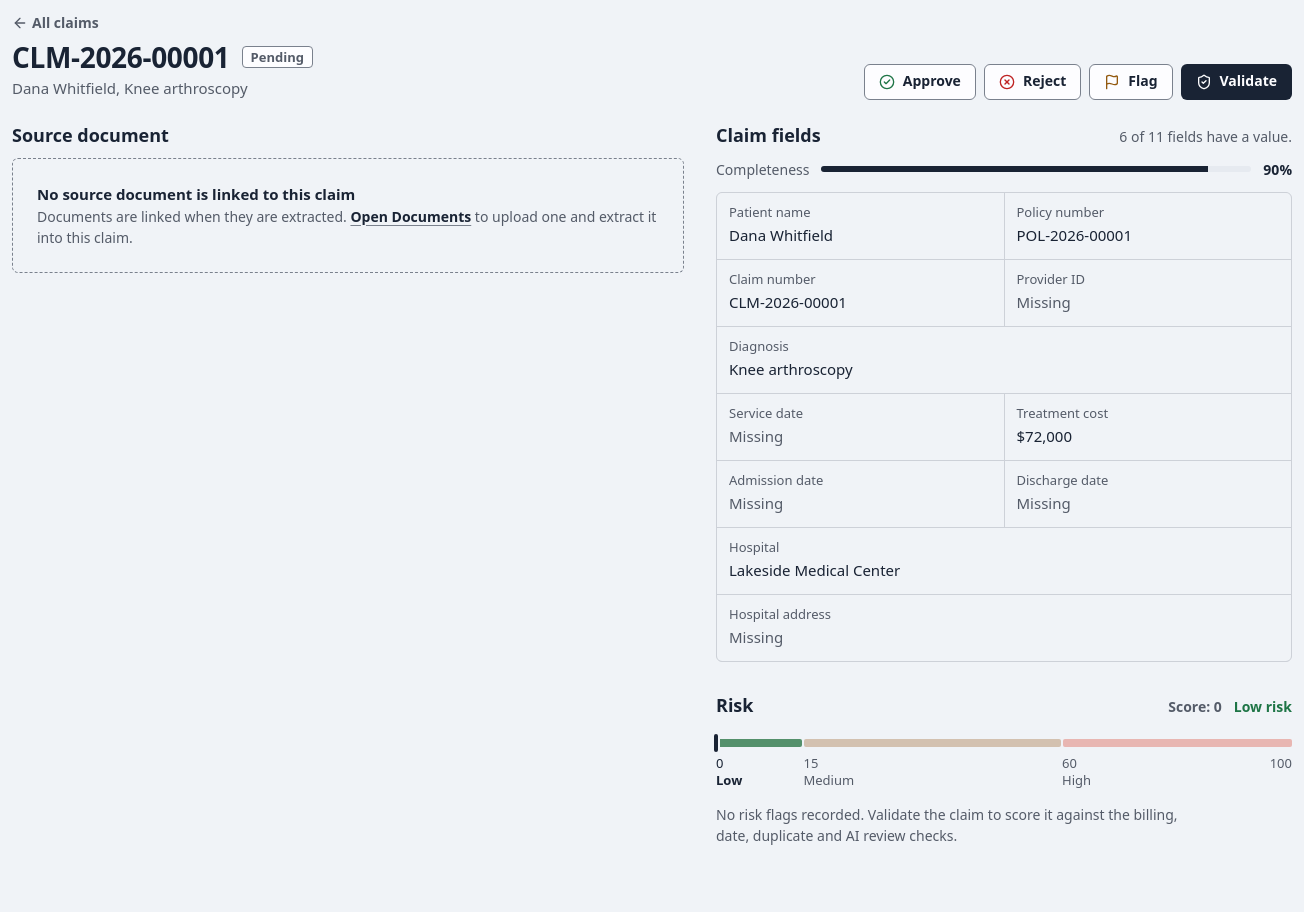
Scenario: ClaimDetailPage › runs validation and shows the risk result
Check: the text "Completeness" is shown, box x1=716 y1=159 x2=809 y2=180
Check: the text "90%" is shown, box x1=1263 y1=159 x2=1292 y2=180
What coordinates should you click on to do the following:
click the button "Validate"
I would click on:
 (1236, 82)
Its box is x1=1180 y1=64 x2=1292 y2=100.
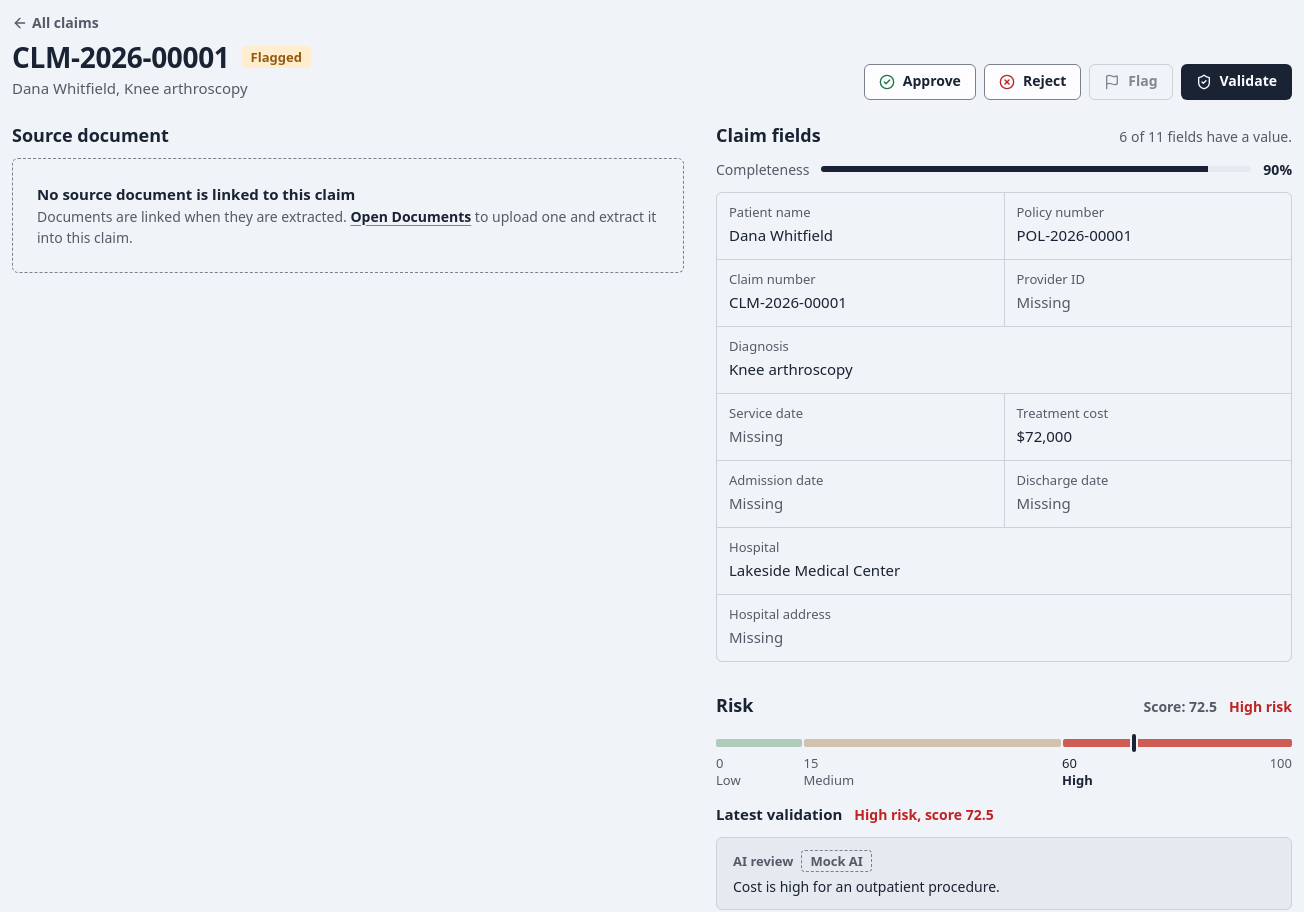
Check: the text "Cost is high for an outpatient procedure." is shown, box x1=733 y1=878 x2=1000 y2=896
Check: the text "High risk, score 72.5" is shown, box x1=854 y1=804 x2=994 y2=826
Check: the text "Mock AI" is shown, box x1=801 y1=850 x2=872 y2=872
